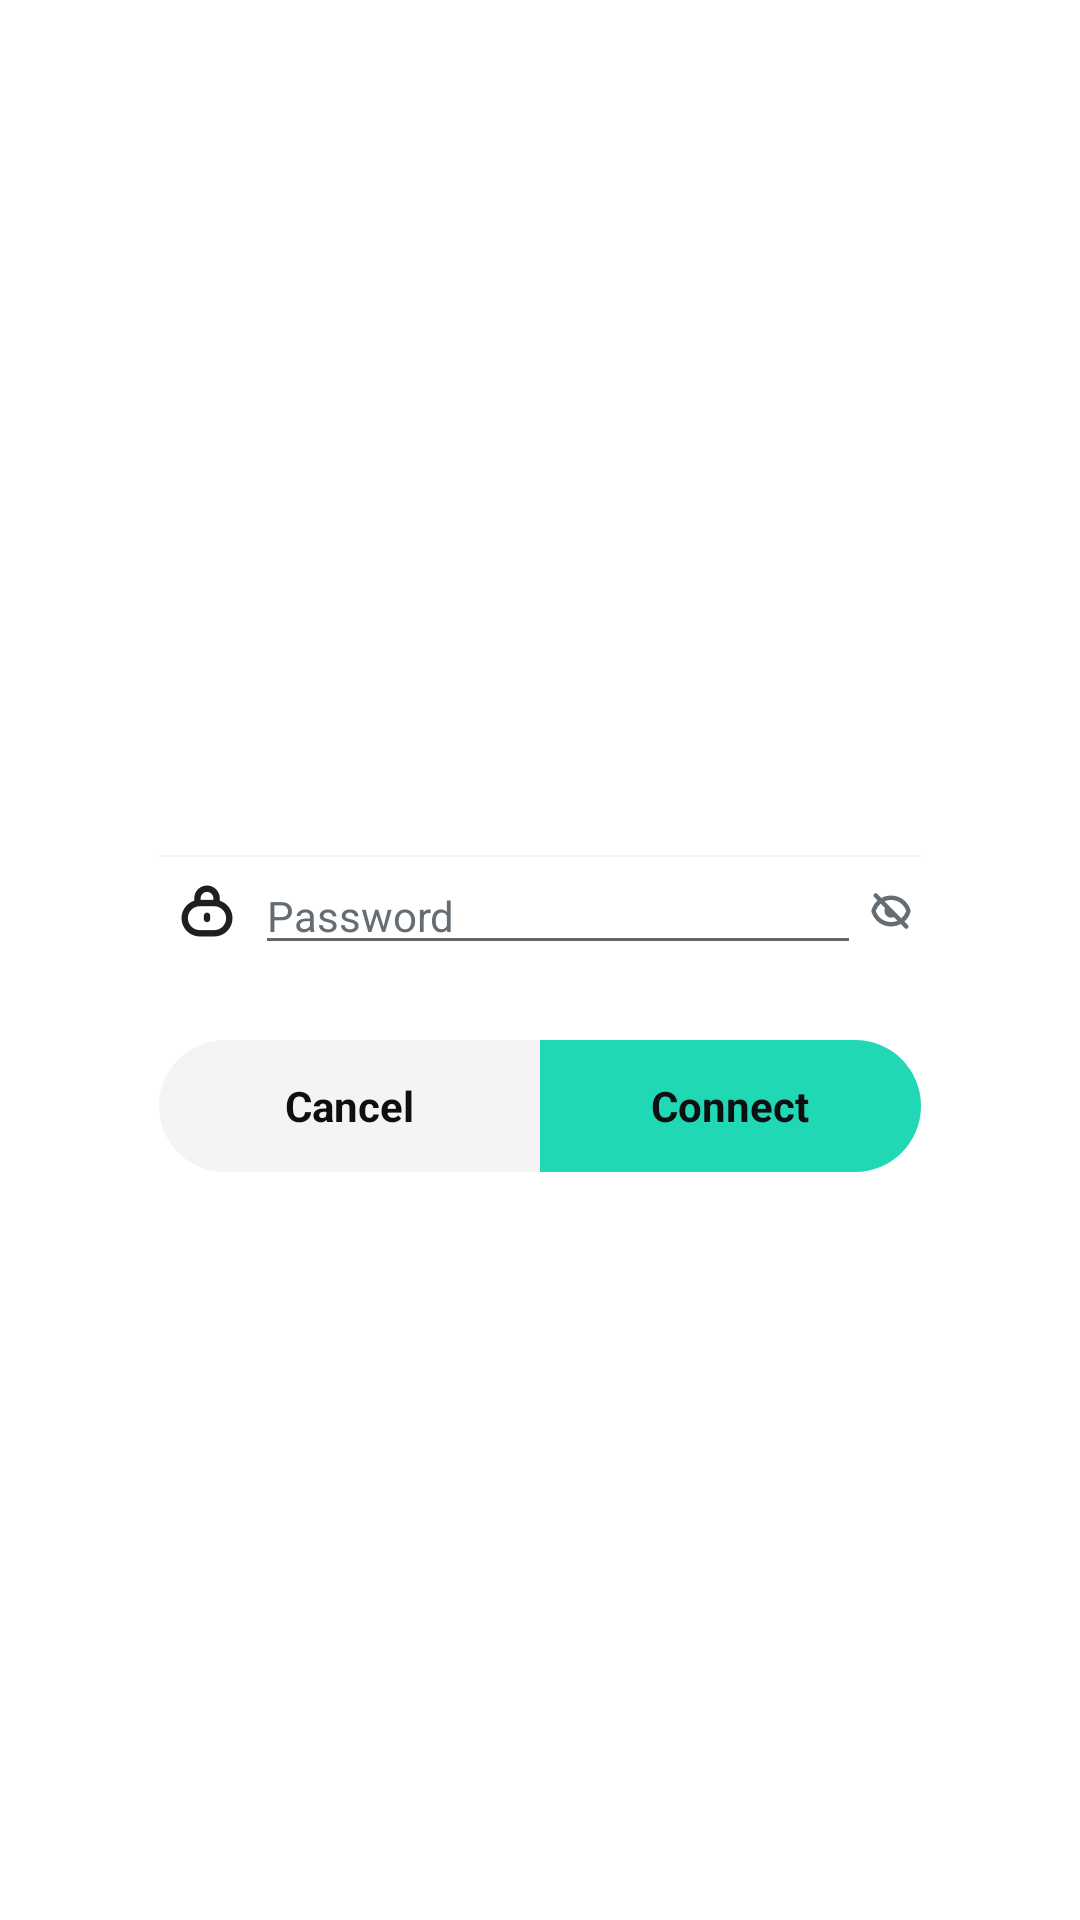

Screen size 1080w x 1920h. Icon name, then its box in pixels as [x1,y1,x2,y2]:
show wifi pwd: [871,893,911,929]
suo: [181,885,233,937]
